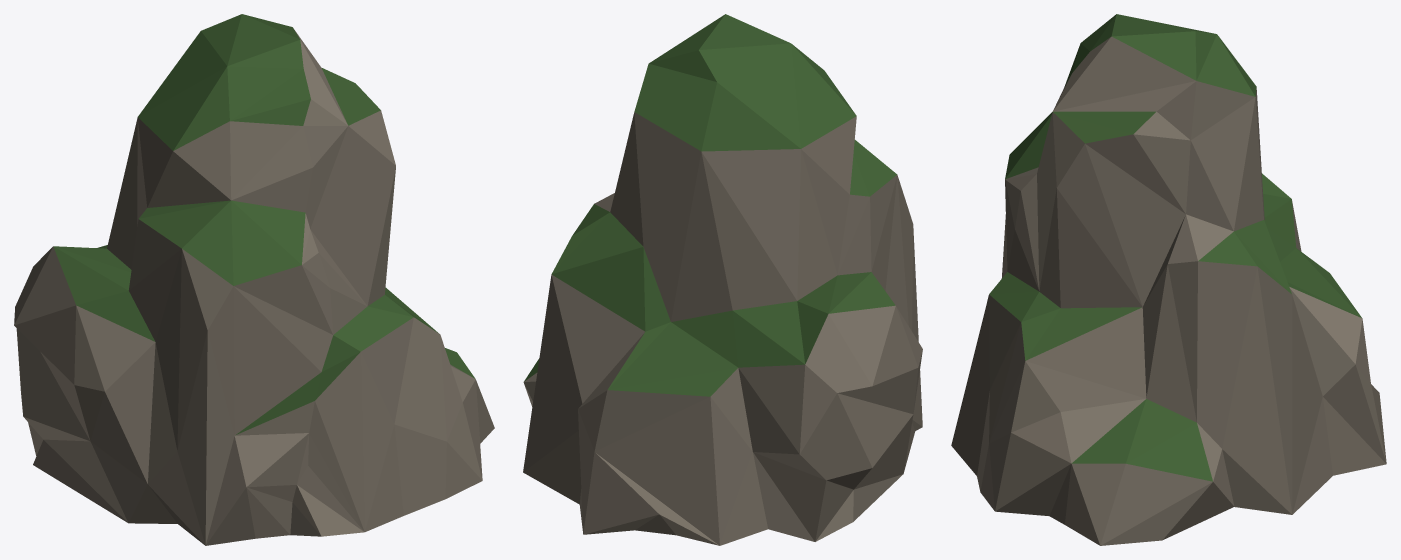
Rendered from RockBig_07.glb.
3 views of the same model, side by side, from view 1: azimuth 30°, elevation 25°; view 2: azimuth 150°, elevation 25°; view 3: azimuth 270°, elevation 25° (orthographic). The views are drawn at different scales.
Visible parts, largest first — view 1: RockBig_07; view 2: RockBig_07; view 3: RockBig_07.
Part boxes in pixels (bbox=[...]): RockBig_07: bbox=[14, 14, 494, 545]; RockBig_07: bbox=[523, 14, 922, 545]; RockBig_07: bbox=[951, 14, 1386, 545].
Size of what is drawn, in the model's own units: 7.21 by 8.07 by 6.84.
Materials: 1 (1 with a texture image).
